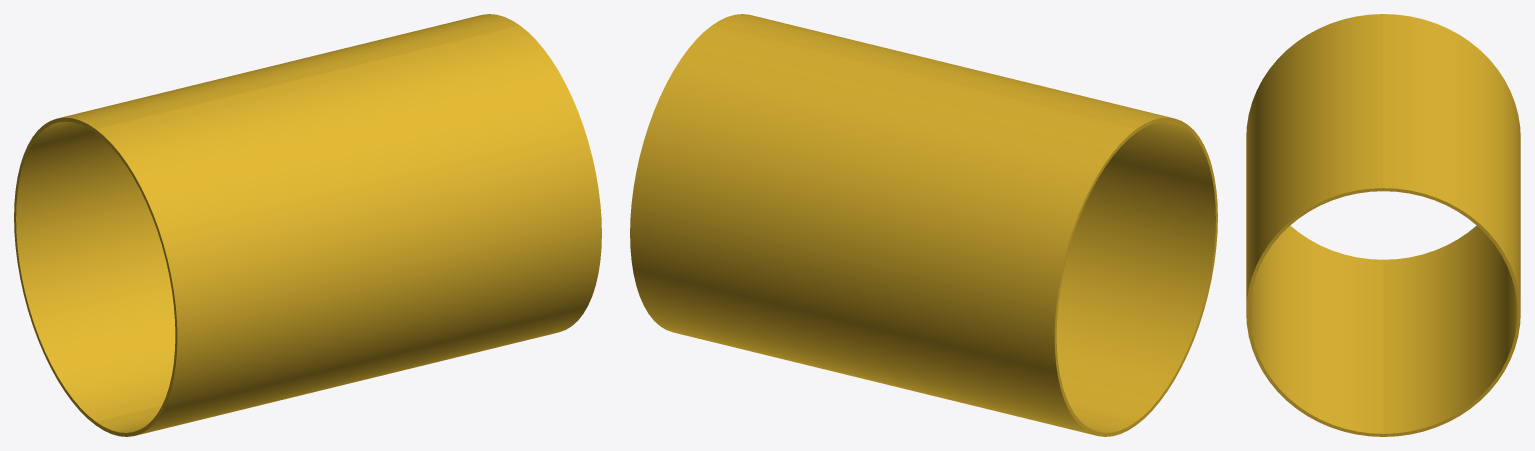
The model's file is bauxite_washing_drum_pressure.glb.
The picture shows the model from 3 angles, left to right: view 1: azimuth 30°, elevation 25°; view 2: azimuth 150°, elevation 25°; view 3: azimuth 270°, elevation 25°; orthographic projection. The views are drawn at different scales.
Parts seen in each view (by area): view 1: pressure__front, pressure__back; view 2: pressure__back, pressure__front; view 3: pressure__back, pressure__front.
Boxes of the visible parts, left/top/right/bottom form: pressure__front: left=95, top=25, right=601, bottom=436; pressure__back: left=14, top=14, right=519, bottom=424; pressure__back: left=630, top=25, right=1136, bottom=436; pressure__front: left=712, top=14, right=1217, bottom=424; pressure__back: left=1383, top=14, right=1520, bottom=436; pressure__front: left=1246, top=14, right=1383, bottom=436.
Bounding box in the file's own units: 2.4 × 1.6 × 1.6.
